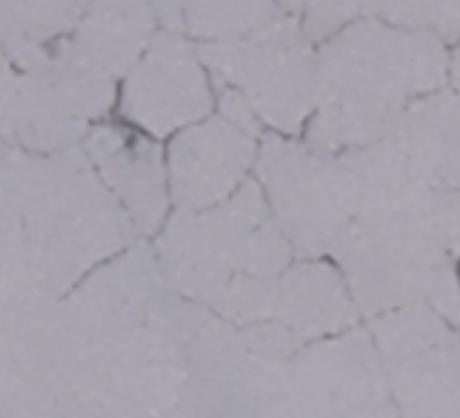fissura: (81, 58, 415, 393)
